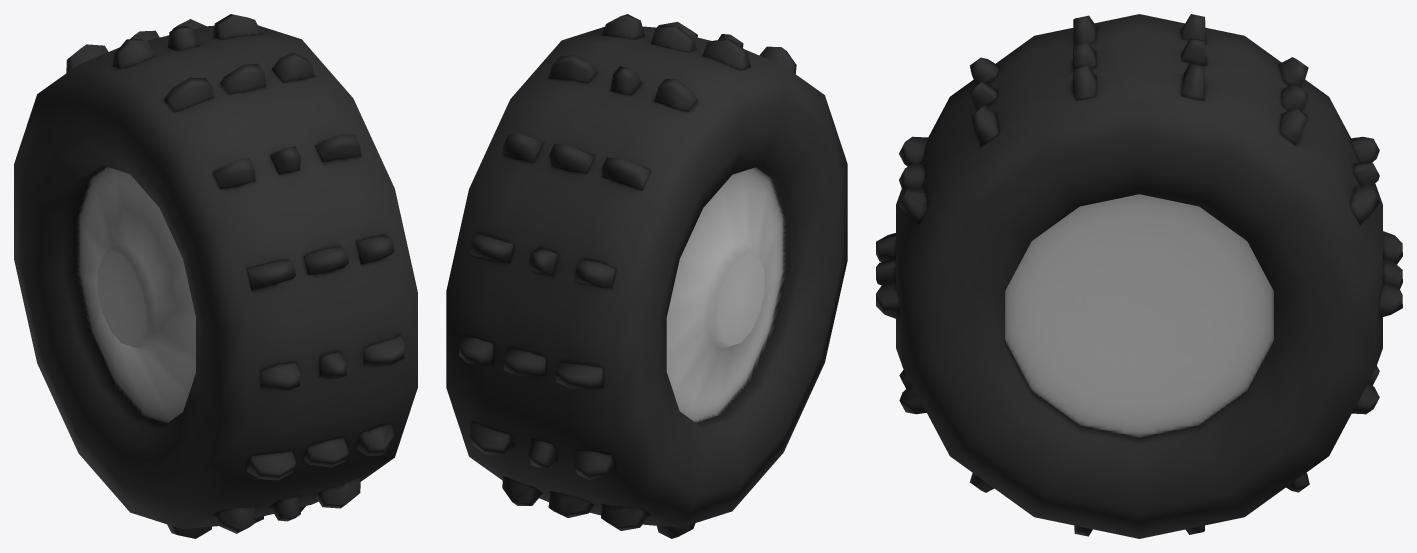
File: LeftJeepWheel.fbx
3 views of the same model, side by side, from view 1: azimuth 30°, elevation 25°; view 2: azimuth 150°, elevation 25°; view 3: azimuth 270°, elevation 25° (orthographic). The views are drawn at different scales.
Visible parts, largest first — view 1: jeep_w1.R; view 2: jeep_w1.R; view 3: jeep_w1.R.
Boxes of the visible parts, box(x1,y1,x2,y2) form: jeep_w1.R: box(14, 14, 417, 538); jeep_w1.R: box(446, 14, 847, 538); jeep_w1.R: box(876, 14, 1402, 538).
Bounding box in the file's own units: 32.53 × 75.34 × 76.78.
